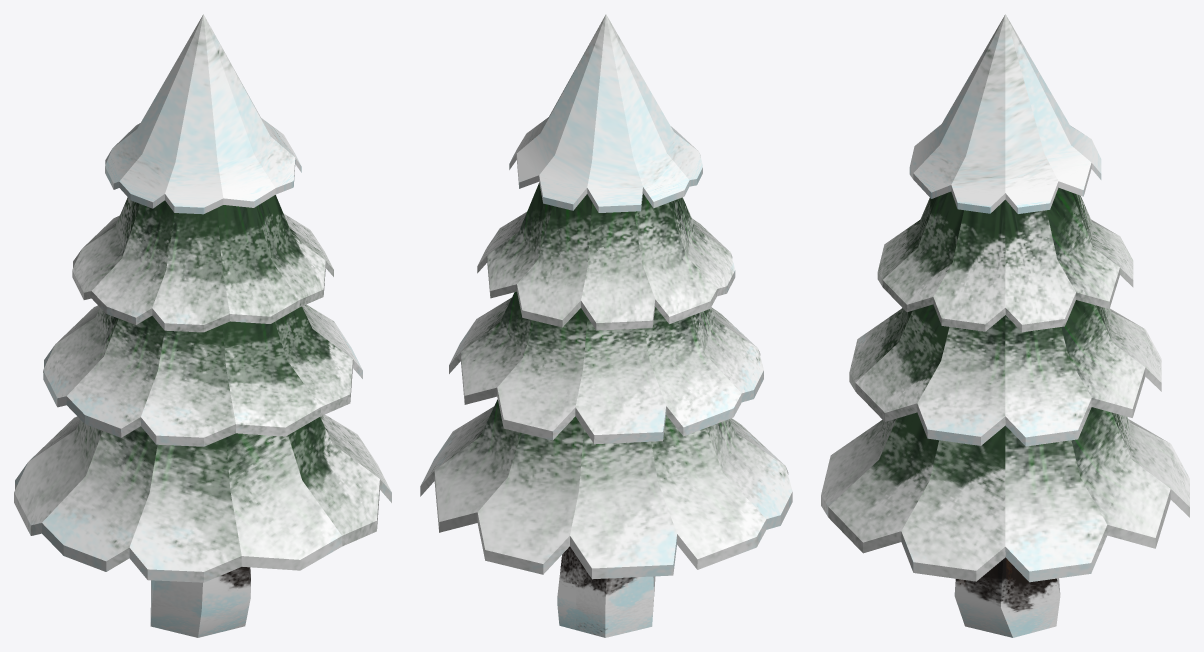
The model's file is pinetree.fbx.
3 renders of one model, left to right at view 1: azimuth 30°, elevation 25°; view 2: azimuth 150°, elevation 25°; view 3: azimuth 270°, elevation 25°, orthographic.
Visible parts, largest first — view 1: pCone5; view 2: pCone5; view 3: pCone5.
Part boxes in pixels (x1,y1,x2,y2): pCone5: [14, 14, 391, 637]; pCone5: [420, 14, 792, 637]; pCone5: [821, 14, 1189, 637].
Bounding box in the file's own units: 5.57 × 9.9 × 5.5.
Materials: 1 (1 with a texture image).
